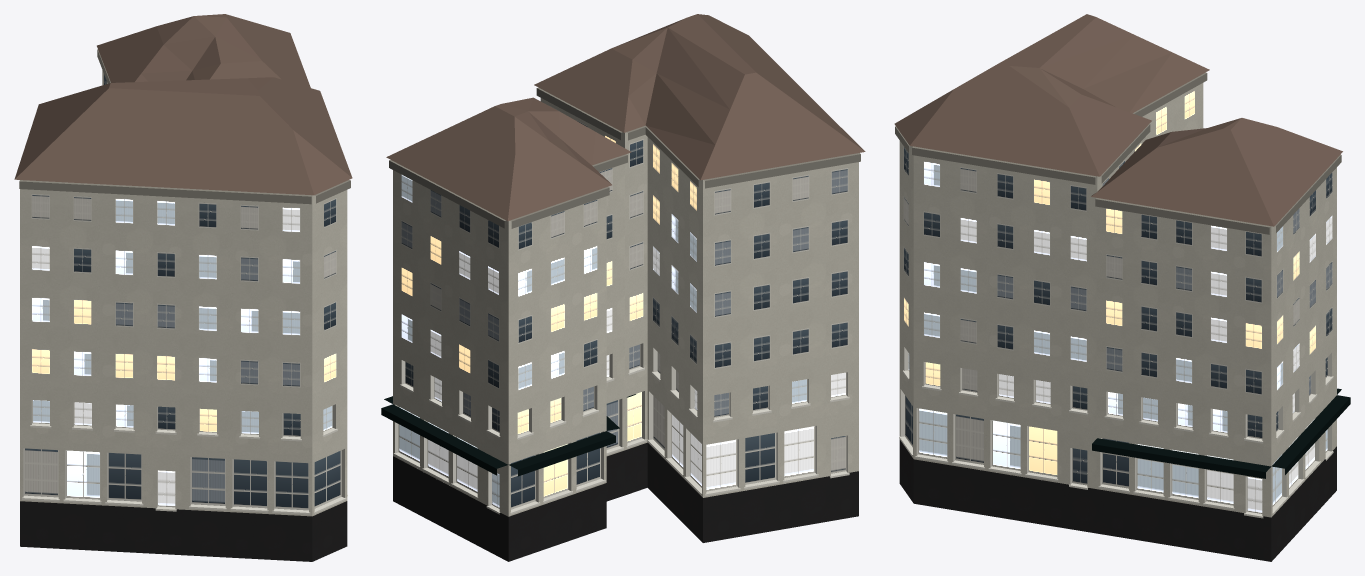
The model's file is langB_diamond.glb.
3 renders of one model, left to right at view 1: azimuth 30°, elevation 25°; view 2: azimuth 150°, elevation 25°; view 3: azimuth 270°, elevation 25°, orthographic. The views are drawn at different scales.
Visible parts, largest first — view 1: langB_diamond; view 2: langB_diamond; view 3: langB_diamond.
Boxes of the visible parts, bbox=[...] form: langB_diamond: bbox=[14, 14, 352, 561]; langB_diamond: bbox=[381, 14, 865, 561]; langB_diamond: bbox=[894, 14, 1350, 561].
Size of the model in its own units: 26.63 by 28.29 by 27.95.
Materials: 3 (3 with a texture image).
